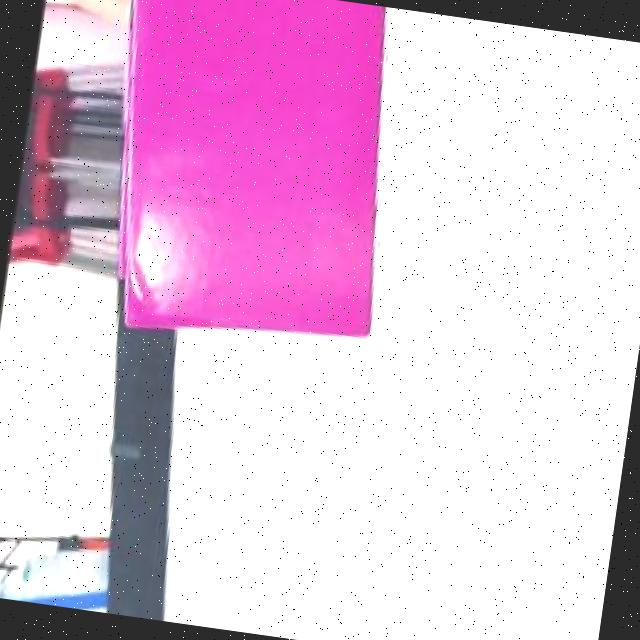xparking: (125, 0, 399, 347)
